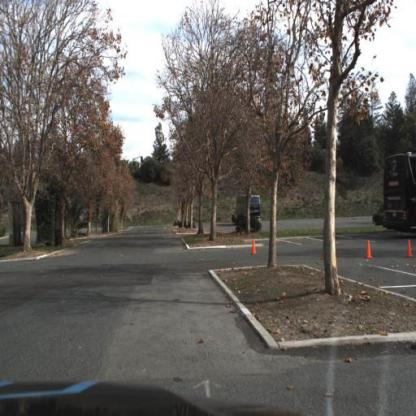truck: (236, 196, 262, 225)
